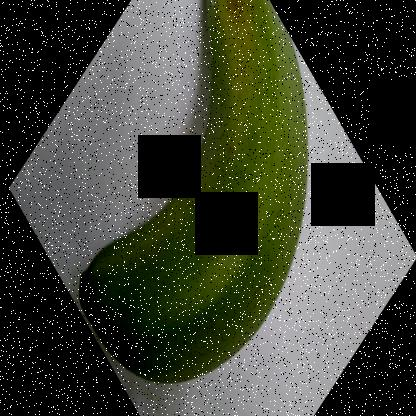freshunripe: (79, 0, 318, 393)
